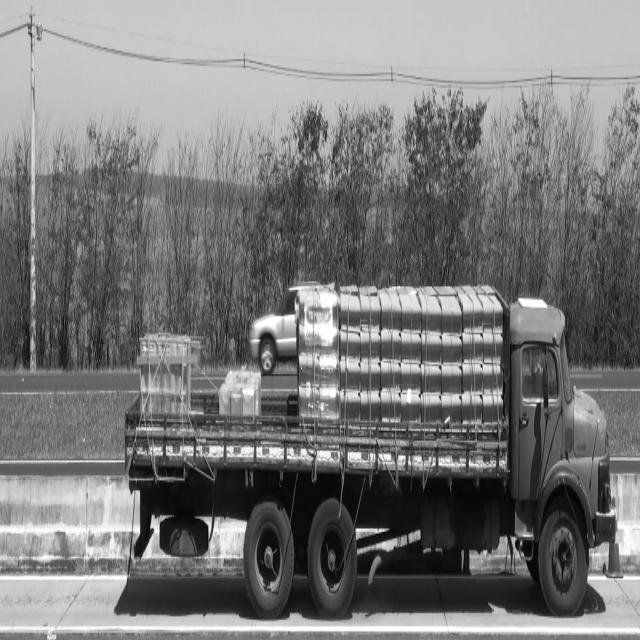Car: (249, 286, 300, 373)
Pole: (29, 6, 36, 373)
Truck: (125, 286, 615, 617)
